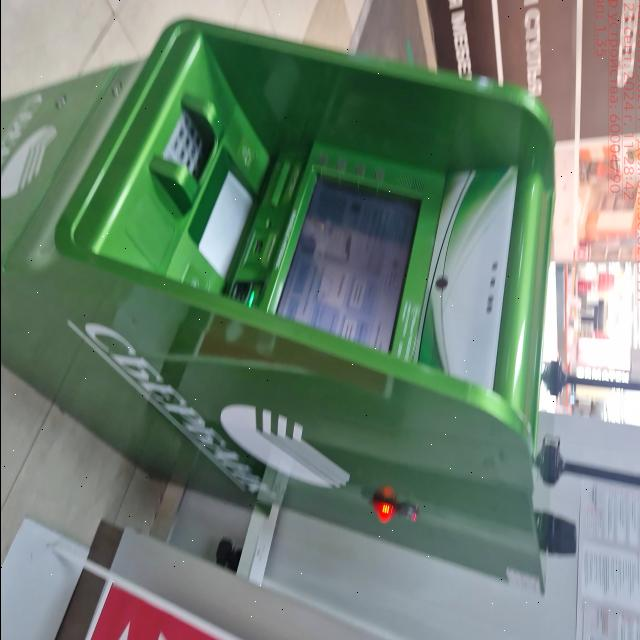bank: (0, 10, 558, 592)
